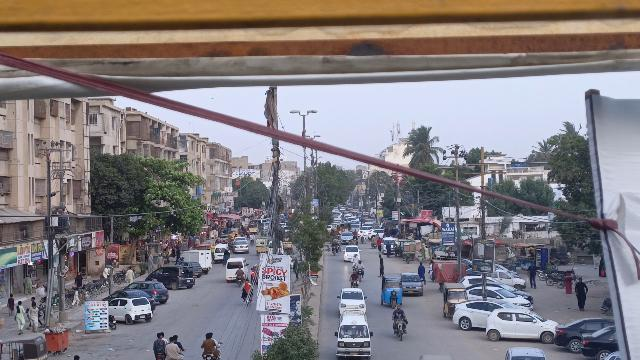Bike: (392, 318, 407, 341), (355, 268, 365, 281), (349, 278, 360, 288), (243, 294, 251, 306), (236, 276, 244, 288)
Car: (485, 305, 558, 346), (451, 299, 503, 331), (551, 315, 599, 349), (578, 321, 616, 359), (106, 296, 153, 325), (145, 265, 196, 290), (125, 279, 170, 306), (336, 286, 367, 314), (399, 272, 424, 297)
Person: (572, 275, 588, 313), (12, 300, 28, 336), (26, 302, 42, 332), (525, 261, 539, 288), (165, 333, 179, 359), (151, 330, 166, 354), (201, 331, 215, 354), (415, 261, 428, 285), (374, 253, 386, 278), (391, 302, 405, 318), (242, 280, 253, 295), (349, 268, 360, 280), (235, 265, 245, 276), (355, 259, 364, 269)
Rickshaw: (441, 281, 467, 319), (380, 272, 404, 307)
Truck: (180, 249, 215, 273)
Van: (332, 309, 374, 360), (223, 258, 249, 283)
